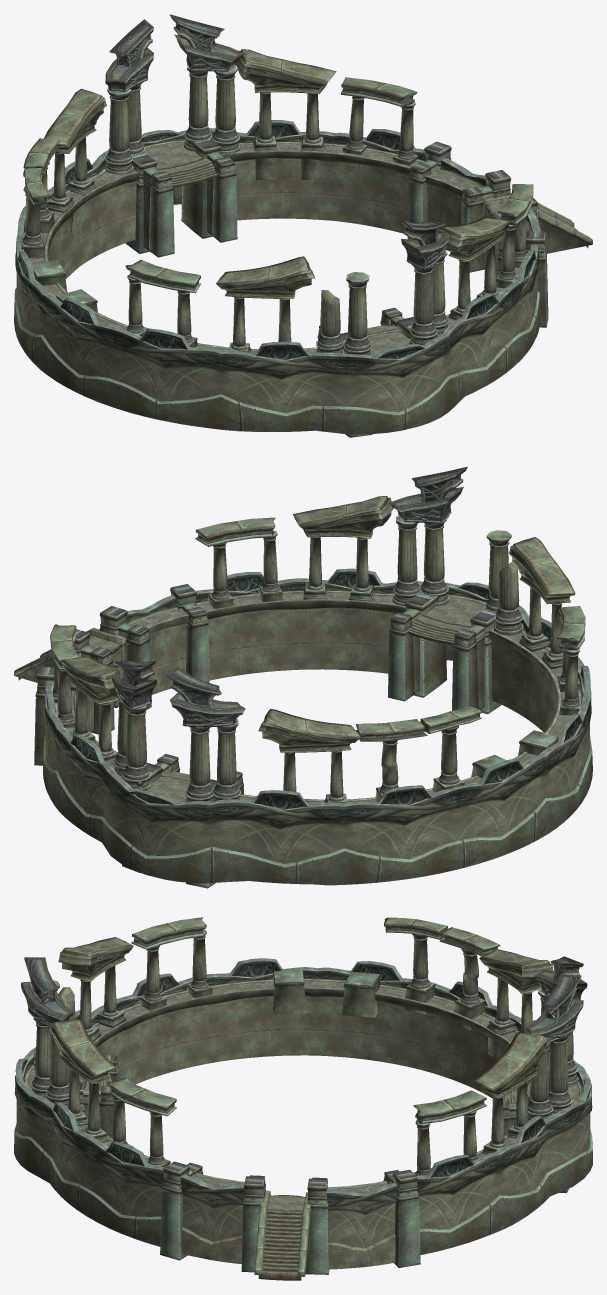
Rendered from Arena-Platino.glb.
3 renders of one model, top to bottom at view 1: azimuth 30°, elevation 25°; view 2: azimuth 150°, elevation 25°; view 3: azimuth 270°, elevation 25°, orthographic. The views are drawn at different scales.
Visible parts, largest first — view 1: 7vs_arena_set0; view 2: 7vs_arena_set0; view 3: 7vs_arena_set0.
Boxes of the visible parts, x1=… form: 7vs_arena_set0: x1=14, y1=14, x2=592, y2=437; 7vs_arena_set0: x1=14, y1=466, x2=592, y2=888; 7vs_arena_set0: x1=14, y1=917, x2=592, y2=1280.
Bounding box in the file's own units: 153 × 57.4 × 147.
22 materials, 22 textured.
